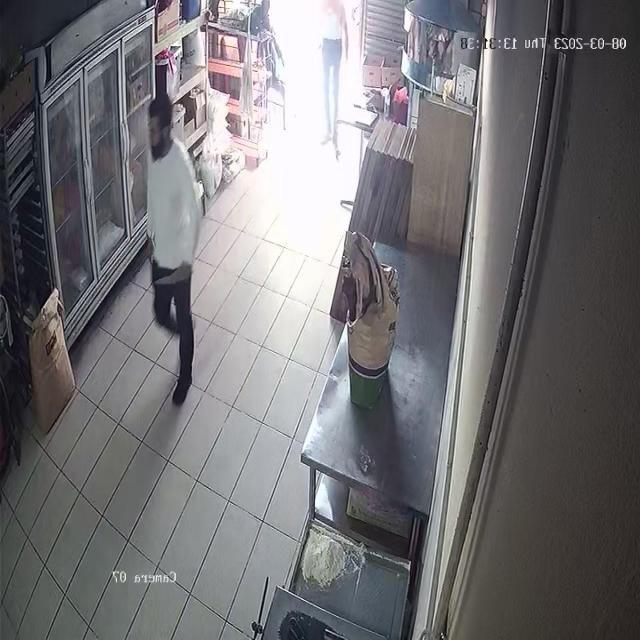Knife: (146, 259, 196, 293)
